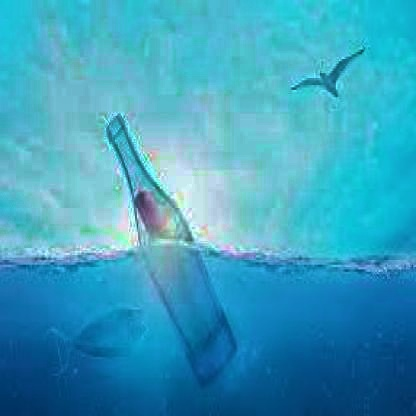gbottle: (106, 114, 239, 388)
